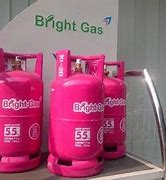bright_gas: (47, 49, 105, 177), (1, 48, 44, 174), (84, 60, 127, 159)
